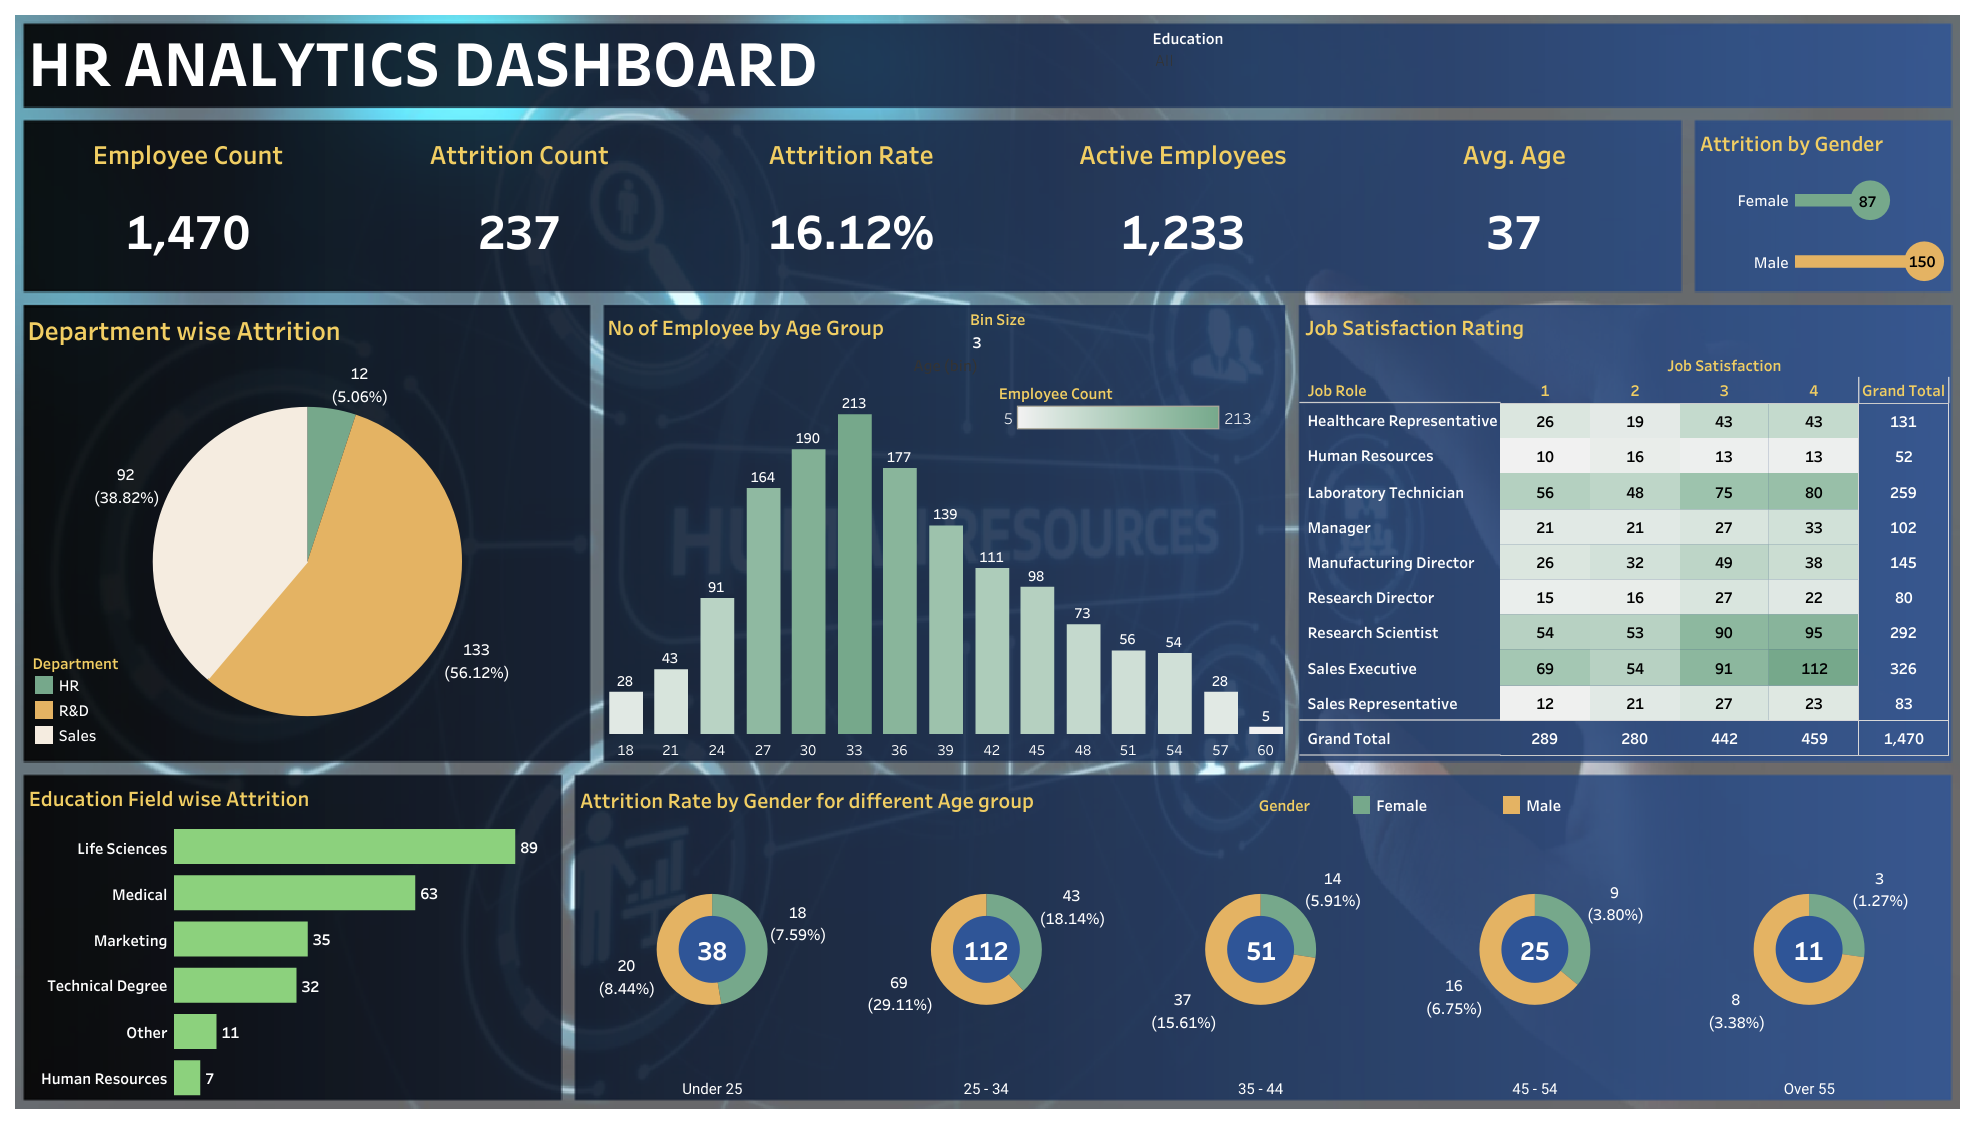

This screenshot's page, from the dashboard's own definition file:
{"tool":"tableau","page":{"name":"HR Analytics Dashboard","canvas":[1580,900],"ordinal":0},"visuals":[{"type":"image","param":"Image/HR background.pptx.png","box":[8,8,1564,884]},{"type":"text","box":[20,20,833,57]},{"type":"filter","title":"Department wise Attrition","param":"[federated.0liin0g1ajm95414gg0er104t8ol].[none:Education:nk]","box":[922,20,275,65]},{"type":"worksheet","title":"KPI","mark":"Automatic","box":[18,97,1326,134]},{"type":"worksheet","title":"Attrition by Gender","mark":"Automatic","rows":["Gender"],"cols":["Calculation_1002332459135143936","Calculation_1002332459135143936"],"box":[1356,97,204,136]},{"type":"worksheet","title":"Department wise Attrition","mark":"Pie","box":[18,244,455,367]},{"type":"worksheet","title":"No of Employee by Age Group","mark":"Automatic","rows":["Employee Count"],"cols":["Age (bin)"],"box":[482,244,549,364]},{"type":"worksheet","title":"Job Satisfaction Rating","mark":"Square","rows":["Job Role"],"cols":["Job Satisfaction"],"box":[1040,244,520,361]},{"type":"parameter","param":"[Parameters].[Parameter 1]","box":[776,245,251,48]},{"type":"legend","title":"No of Employee by Age Group","param":"[federated.0liin0g1ajm95414gg0er104t8ol].[sum:Employee Count:qk]","box":[799,301,207,54]},{"type":"legend","title":"Department wise Attrition","param":"[federated.0liin0g1ajm95414gg0er104t8ol].[none:Department:nk]","box":[25,519,140,85]},{"type":"worksheet","title":"Education Field wise Attrition","mark":"Automatic","rows":["Education Field"],"cols":["Calculation_1002332459135143936"],"box":[19,621,430,259]},{"type":"worksheet","title":"Attrition Rate by Gender for different Age group","mark":"Pie","rows":["Calculation_991354935782027265","Calculation_991354935782027265"],"cols":["CF_age band"],"box":[460,622,1097,257]},{"type":"legend","title":"Attrition Rate by Gender for different Age group","param":"[federated.0liin0g1ajm95414gg0er104t8ol].[none:Gender:nk]","box":[1007,634,423,27]}]}

Visuals, with their boxes in screenshot pixels (x1, y1, x2, y2), scaled from the page's 1580x900 canvas onto the 1974x1124 screenshot:
image: {"left": 10, "top": 10, "right": 1964, "bottom": 1114}
text: {"left": 25, "top": 25, "right": 1066, "bottom": 96}
"Department wise Attrition" filter: {"left": 1152, "top": 25, "right": 1495, "bottom": 106}
"KPI" worksheet: {"left": 22, "top": 121, "right": 1679, "bottom": 288}
"Attrition by Gender" worksheet: {"left": 1694, "top": 121, "right": 1949, "bottom": 291}
"Department wise Attrition" worksheet (Pie marks): {"left": 22, "top": 305, "right": 591, "bottom": 763}
"No of Employee by Age Group" worksheet: {"left": 602, "top": 305, "right": 1288, "bottom": 759}
"Job Satisfaction Rating" worksheet (Square marks): {"left": 1299, "top": 305, "right": 1949, "bottom": 756}
parameter: {"left": 970, "top": 306, "right": 1283, "bottom": 366}
"No of Employee by Age Group" legend: {"left": 998, "top": 376, "right": 1257, "bottom": 443}
"Department wise Attrition" legend: {"left": 31, "top": 648, "right": 206, "bottom": 754}
"Education Field wise Attrition" worksheet: {"left": 24, "top": 776, "right": 561, "bottom": 1099}
"Attrition Rate by Gender for different Age group" worksheet (Pie marks): {"left": 575, "top": 777, "right": 1945, "bottom": 1098}
"Attrition Rate by Gender for different Age group" legend: {"left": 1258, "top": 792, "right": 1787, "bottom": 826}
